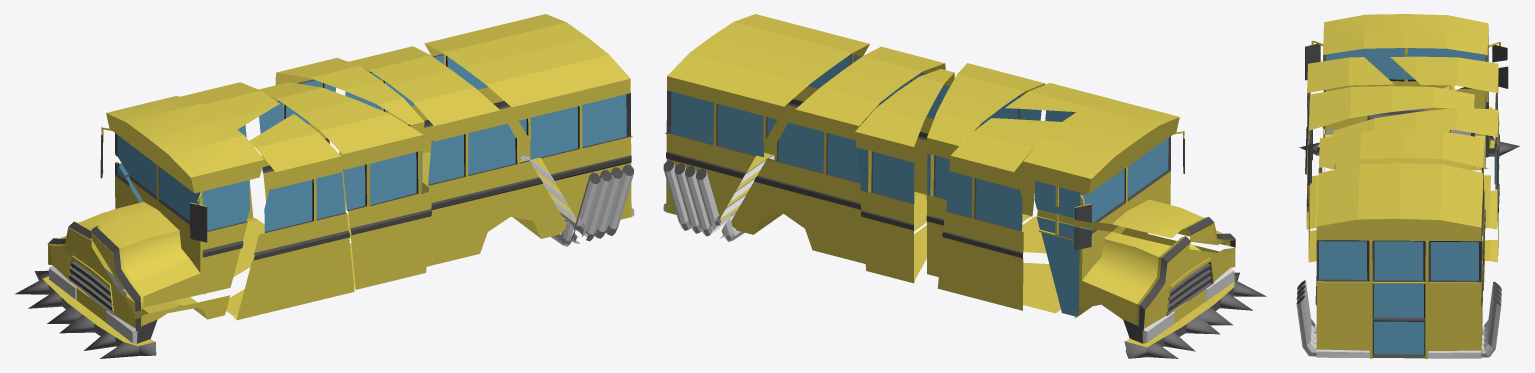
File: School Bus Destructable.fbx
The picture shows the model from 3 angles, left to right: view 1: azimuth 30°, elevation 25°; view 2: azimuth 150°, elevation 25°; view 3: azimuth 270°, elevation 25°; orthographic projection. The views are drawn at different scales.
Visible parts, largest first — view 1: polySurface22, polySurface21, polySurface20, polySurface29, polySurface27, polySurface24, polySurface30, polySurface28; view 2: polySurface21, polySurface20, polySurface24, polySurface22, polySurface28, polySurface30, polySurface29, polySurface27; view 3: polySurface21, polySurface22, polySurface20, polySurface29, polySurface30, polySurface28, polySurface24, polySurface27.
Part boxes in pixels (x1,y1,x2,y2): polySurface22: (90, 96, 264, 311); polySurface21: (424, 14, 634, 241); polySurface20: (339, 46, 566, 266); polySurface29: (259, 82, 432, 289); polySurface27: (226, 114, 354, 320); polySurface24: (15, 147, 229, 358); polySurface30: (275, 58, 424, 238); polySurface28: (180, 82, 279, 294); polySurface21: (663, 14, 869, 236); polySurface20: (731, 46, 945, 263); polySurface24: (1037, 213, 1266, 358); polySurface22: (1023, 98, 1235, 247); polySurface28: (937, 118, 1061, 313); polySurface30: (855, 69, 954, 283); polySurface29: (926, 63, 1045, 276); polySurface27: (1005, 83, 1147, 253); polySurface21: (1296, 163, 1501, 358); polySurface22: (1305, 14, 1507, 137); polySurface20: (1318, 130, 1485, 323); polySurface29: (1307, 86, 1474, 262); polySurface30: (1333, 107, 1499, 262); polySurface28: (1390, 56, 1499, 229); polySurface24: (1299, 66, 1519, 171); polySurface27: (1305, 57, 1393, 229).
Bounding box in the file's own units: 13.4 × 4.14 × 5.16.
